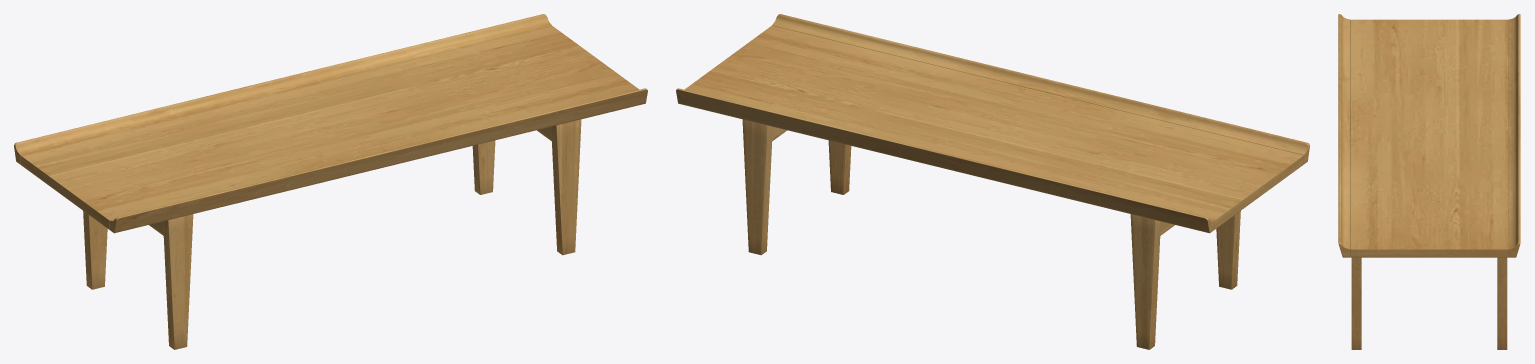
3 views of the same model, side by side, from view 1: azimuth 30°, elevation 25°; view 2: azimuth 150°, elevation 25°; view 3: azimuth 270°, elevation 25° (orthographic). The views are drawn at different scales.
Visible parts, largest first — view 1: 20587721_coffee_table:1; view 2: 20587721_coffee_table:1; view 3: 20587721_coffee_table:1.
Part boxes in pixels (left/top/right/bottom): 20587721_coffee_table:1: left=14, top=14, right=647, bottom=349; 20587721_coffee_table:1: left=676, top=14, right=1309, bottom=349; 20587721_coffee_table:1: left=1338, top=14, right=1520, bottom=349.
Size of the model in its own units: 1.16 by 0.3197 by 0.3892.
2 materials, 1 textured.
